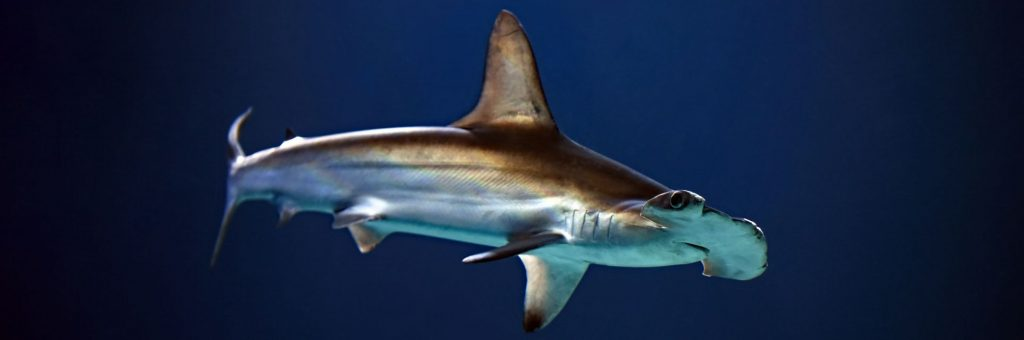Hammer: (192, 13, 811, 340), (12, 20, 590, 325)
